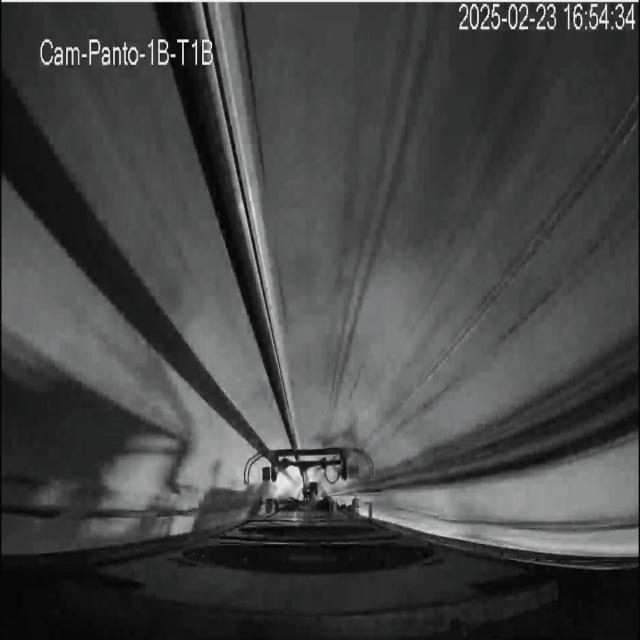Camera Stamp: (40, 34, 218, 69)
Date Stamp: (457, 3, 634, 33)
No - Spark: (247, 445, 372, 517)
